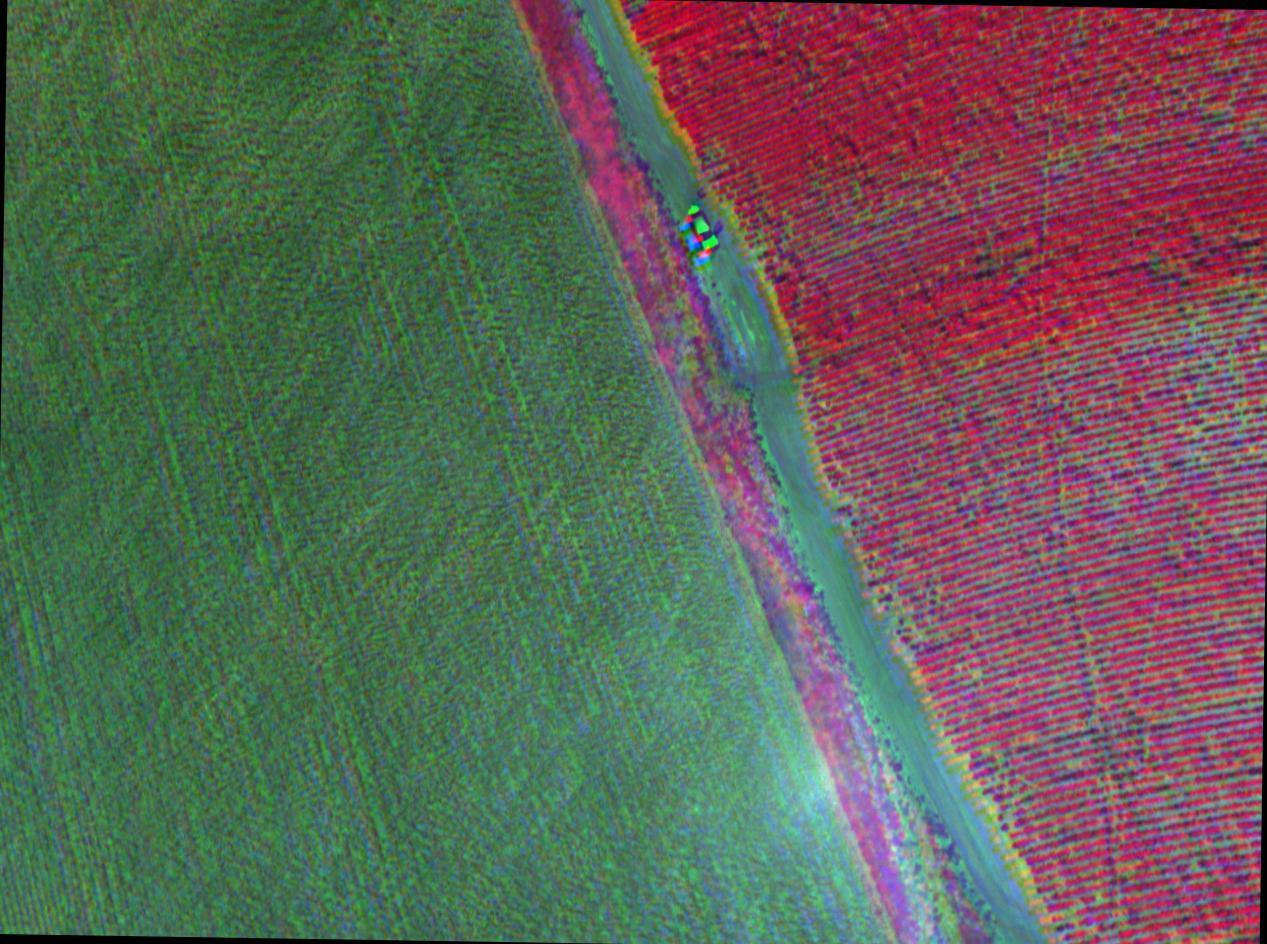dc: (1088, 665, 1261, 748), (1196, 318, 1267, 442), (966, 753, 1035, 833), (1016, 338, 1082, 420), (886, 578, 949, 649), (836, 473, 892, 538)
